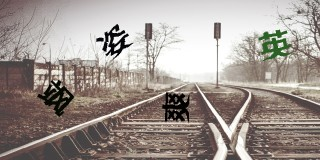姿: (96, 24, 133, 58)
爽: (162, 91, 191, 122)
英: (259, 29, 293, 61)
飒: (38, 79, 75, 117)
